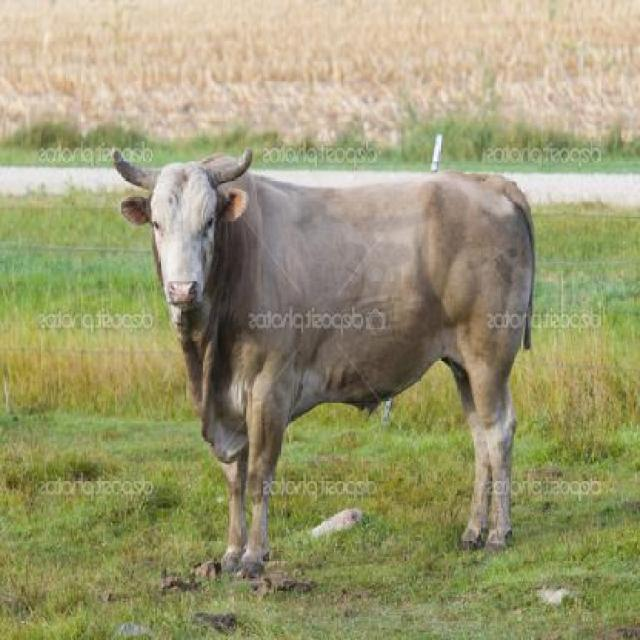Cow: (108, 146, 537, 586)
